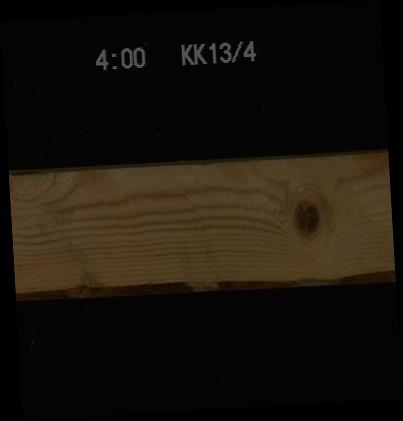sound_knot: (290, 197, 321, 238)
wave: (15, 273, 395, 296)
